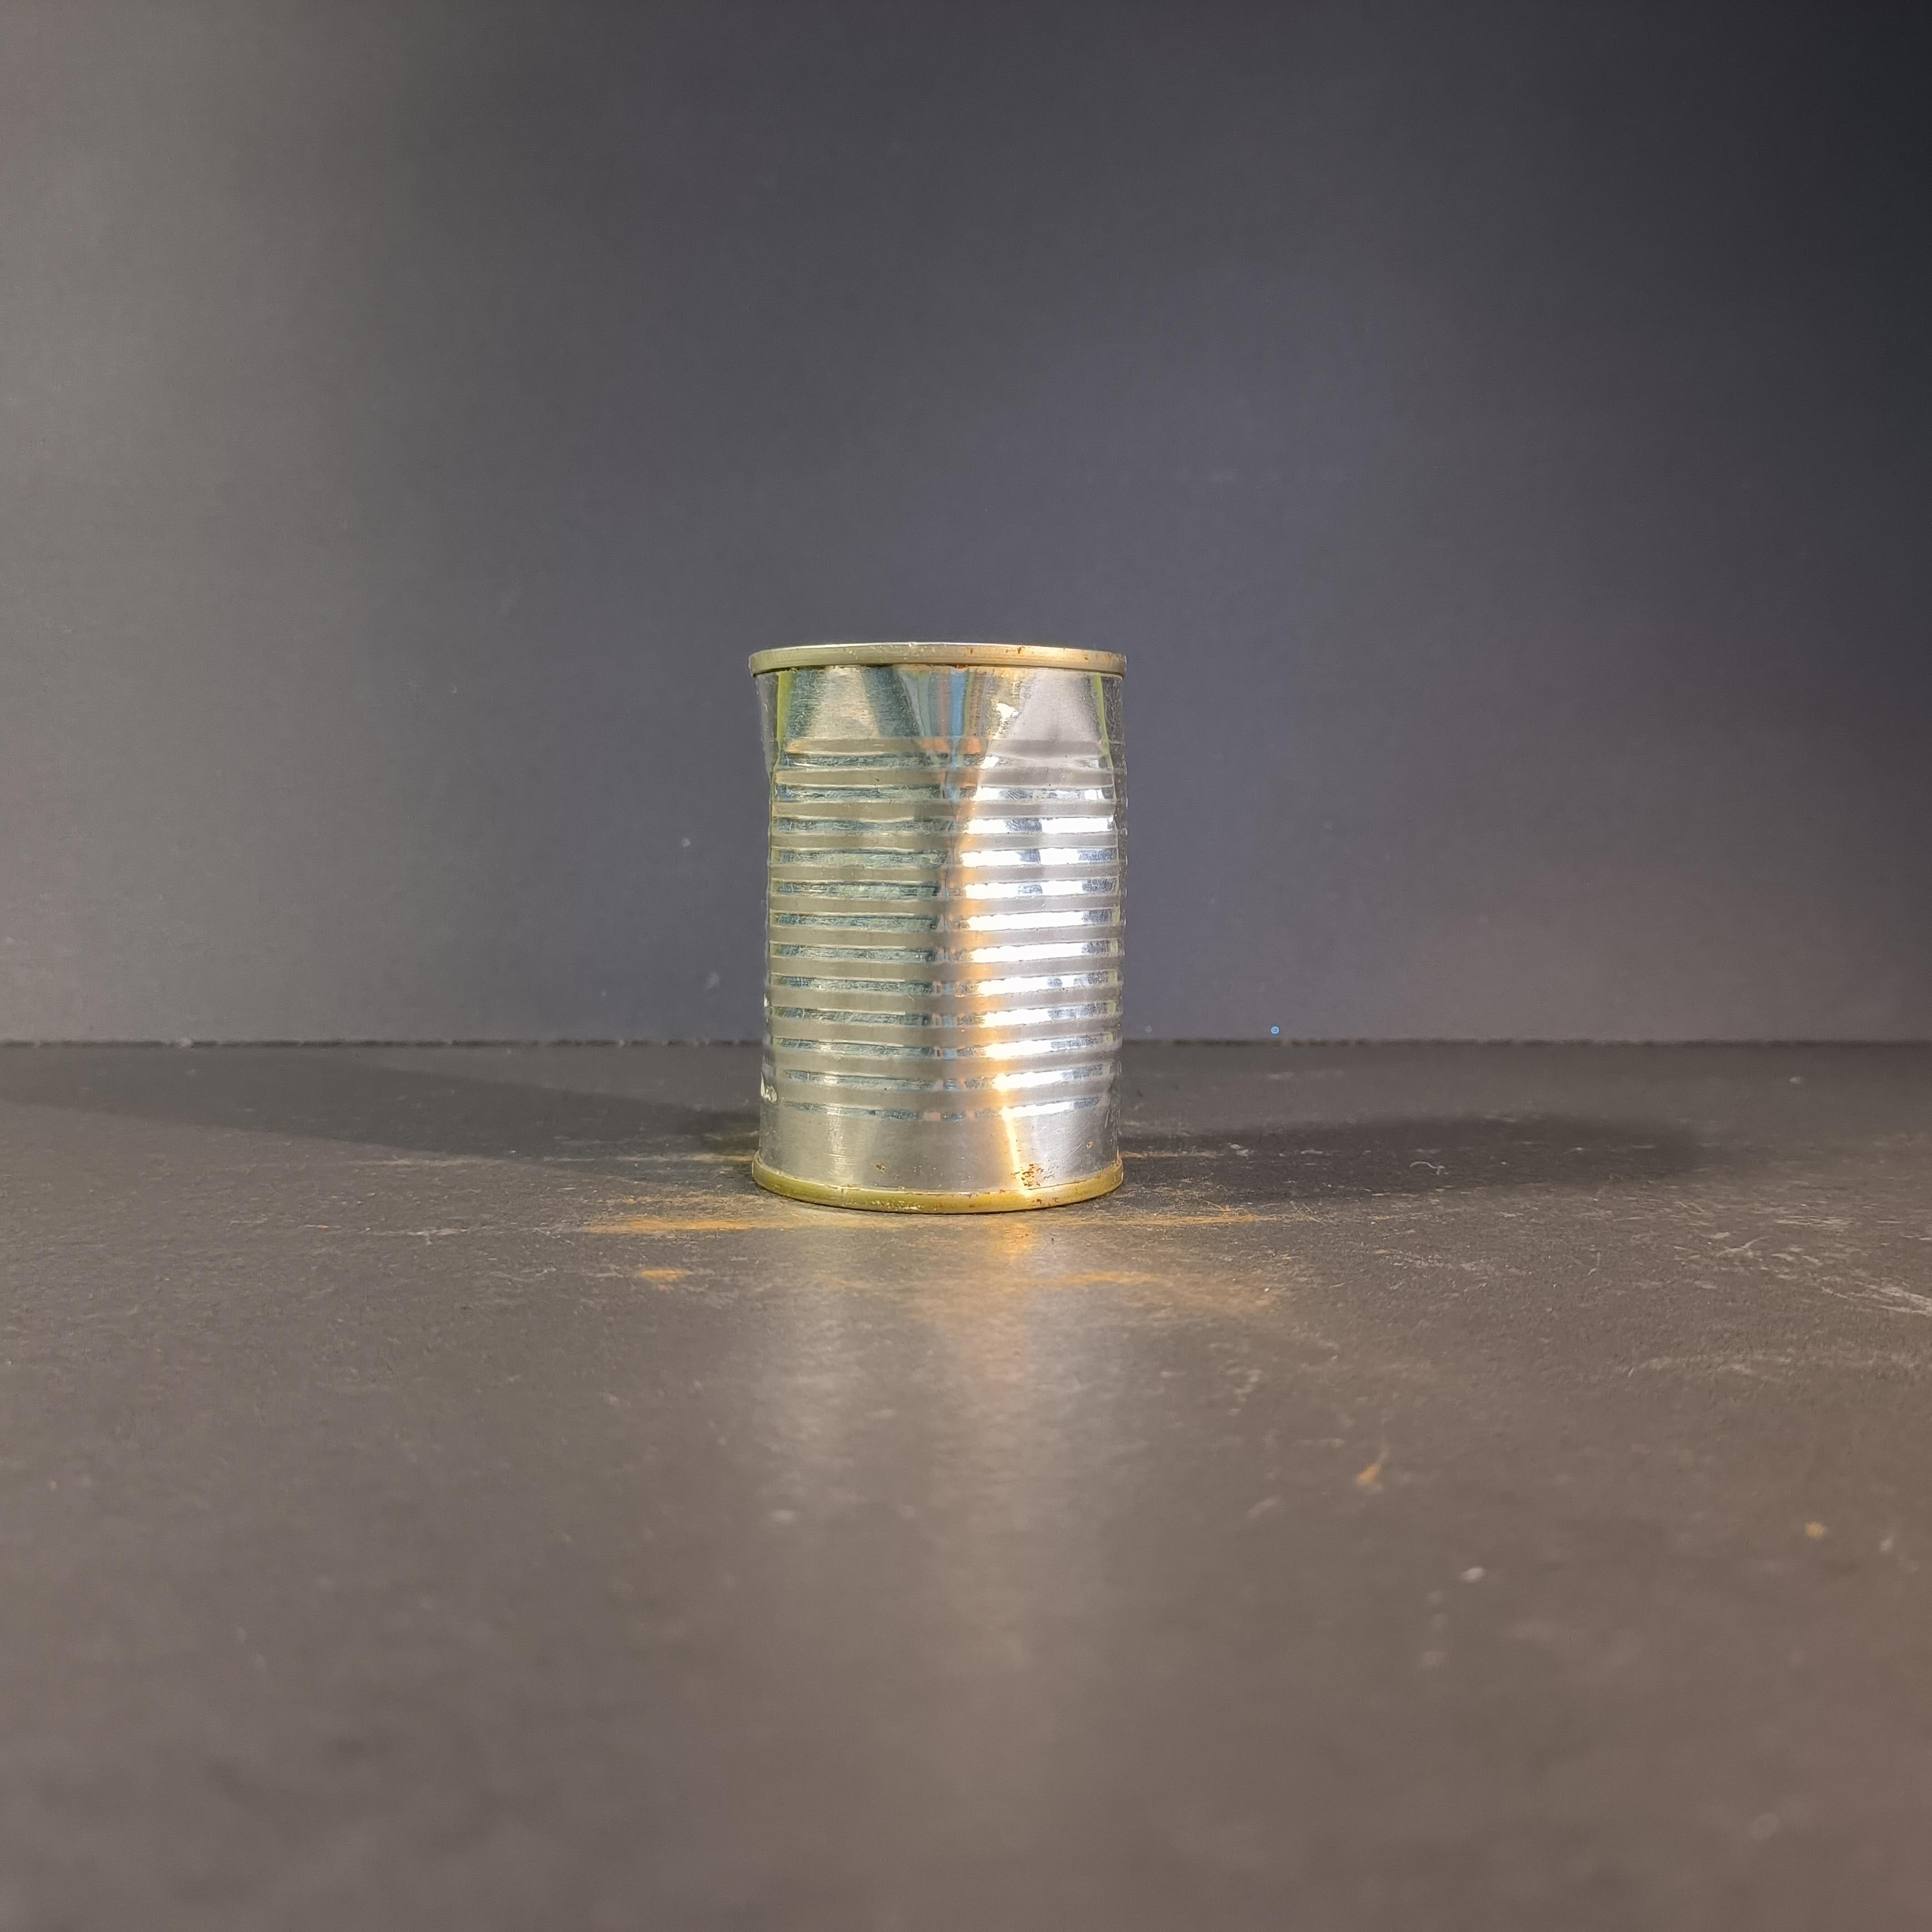Dented: (720, 603, 1141, 1233)
